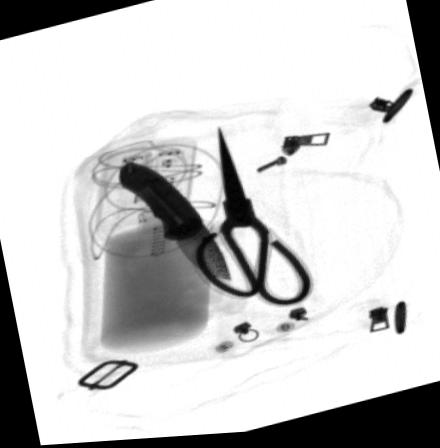Knife: (118, 162, 230, 284)
Scissors: (191, 127, 314, 309)
